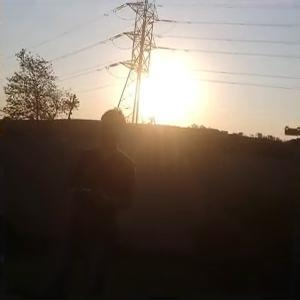follow: (61, 105, 137, 298)
